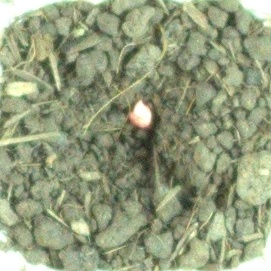pepper seed: (48, 32, 205, 163)
